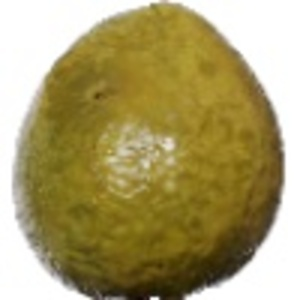goiaba: (8, 7, 284, 294)
